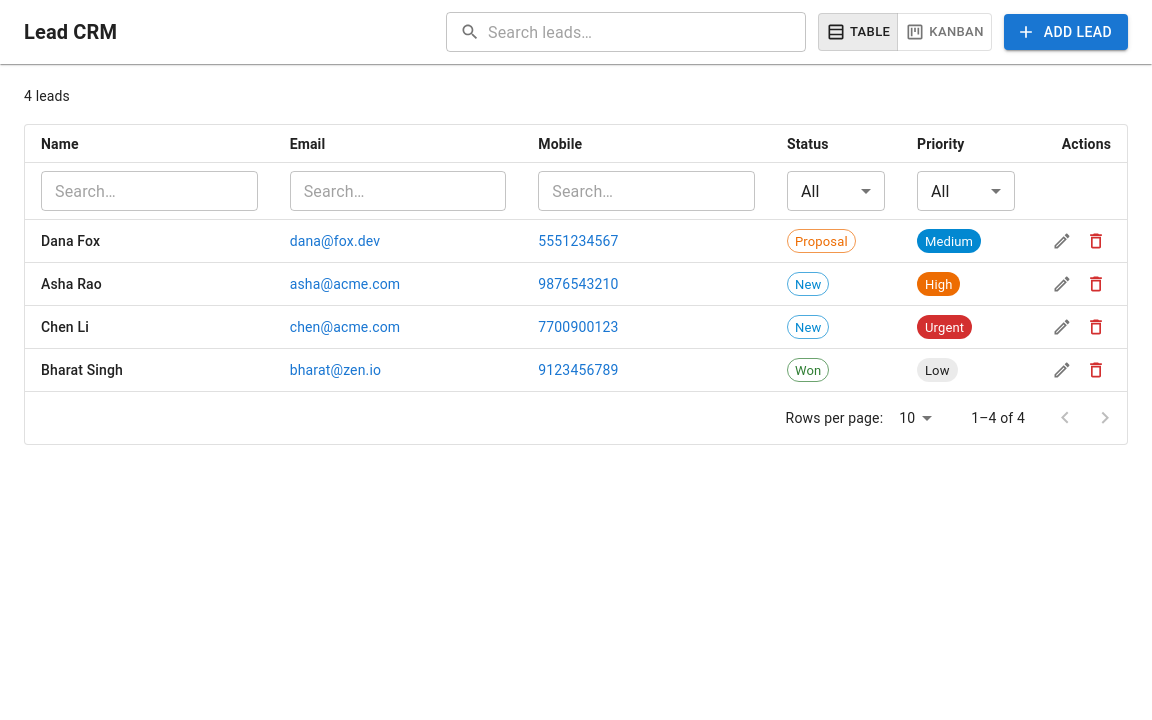
it: App › adds a lead end to end and confirms with a toast
The image size is (1152, 720).
Click the button "Add lead": x=1066, y=32 [1004,14,1128,50]
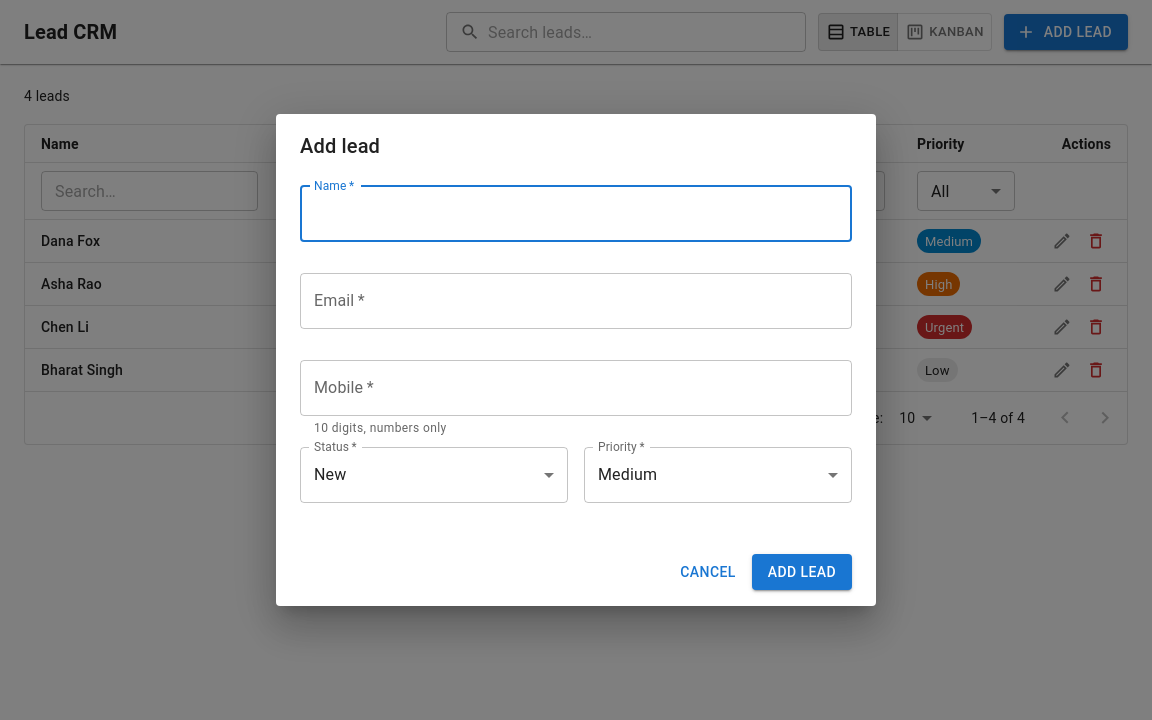
In the field labelled "Name *": x=576, y=214 [300,186,852,242], type "New Person"
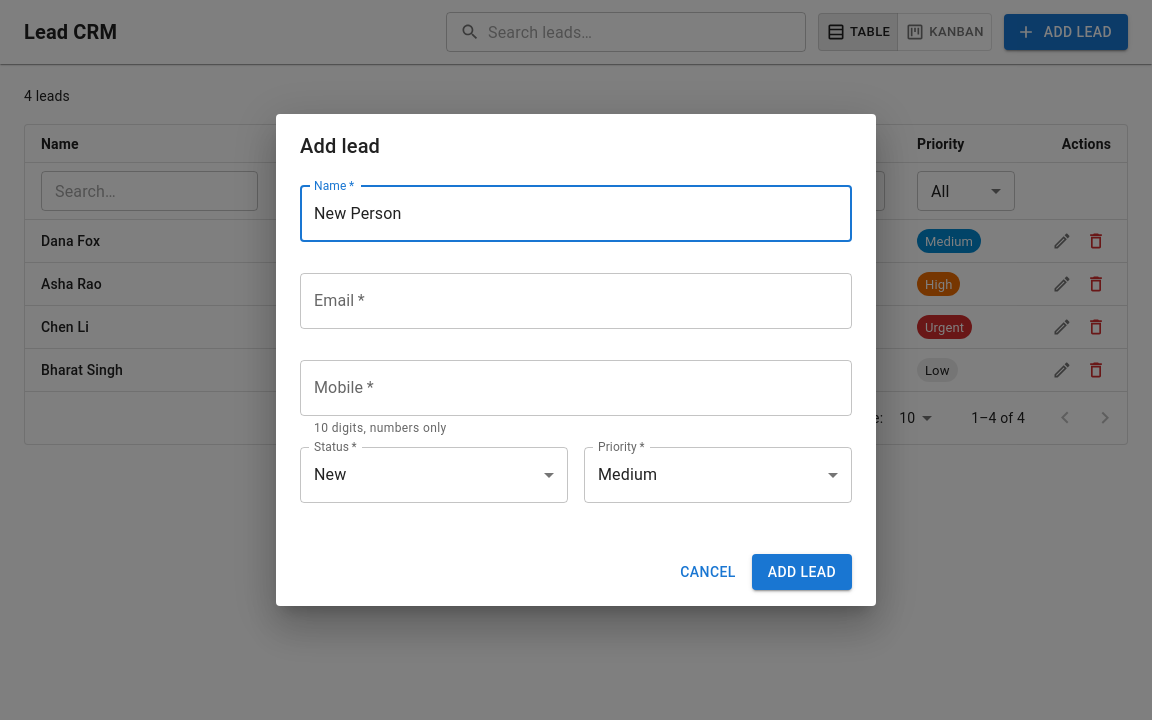
In the field labelled "Email *": x=576, y=301 [300,273,852,329], type "new@person.com"
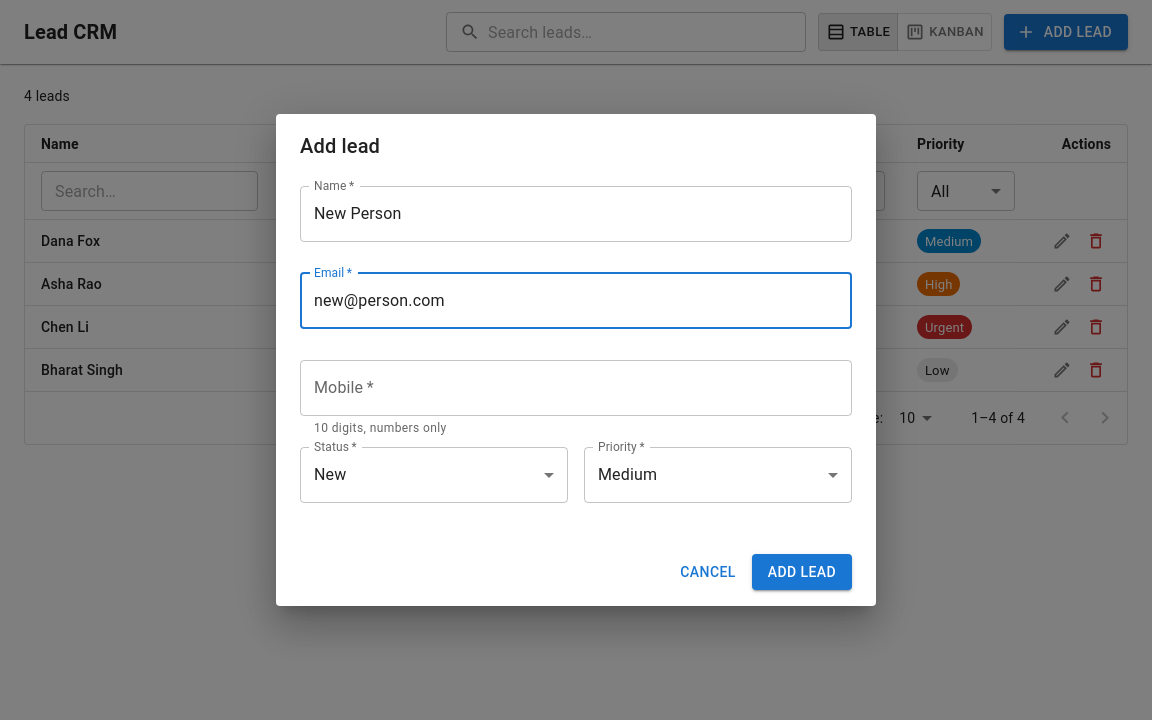
In the field labelled "Mobile *": x=576, y=388 [300,360,852,416], type "9000000001"
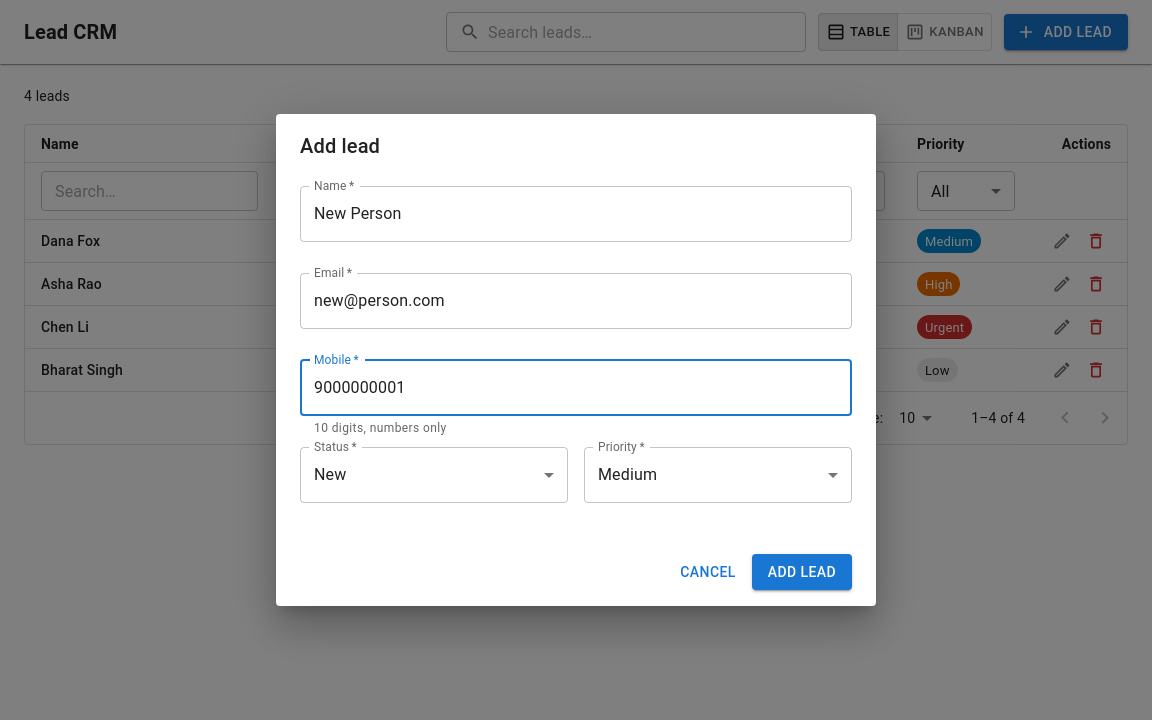
Click the button "Add lead": x=802, y=572 [752,554,852,590]
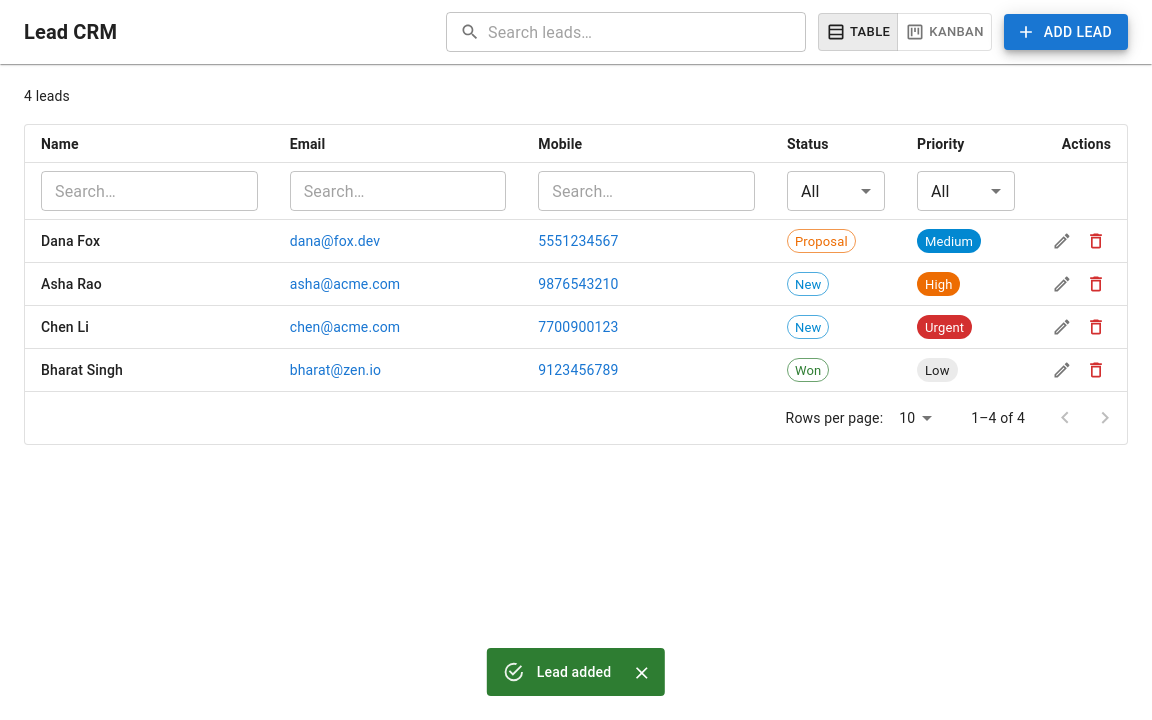
Check: the text "Lead added" is shown, box [537,664,611,680]
Check: the dialog is gone
